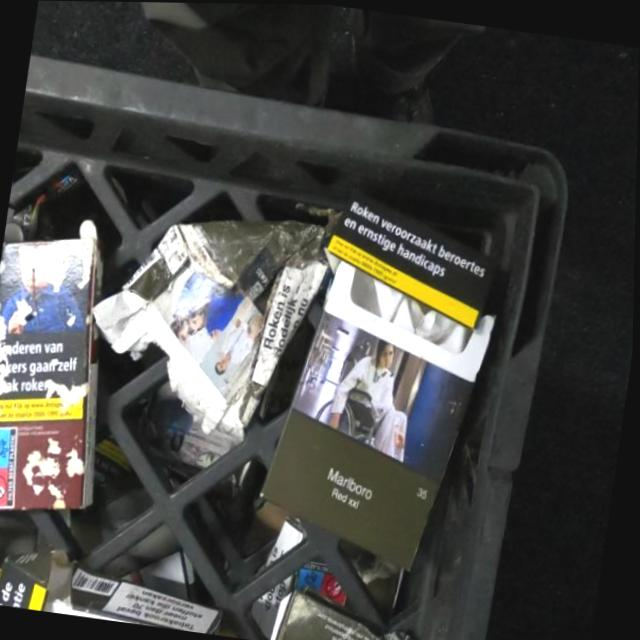Paper: (250, 180, 521, 583), (73, 170, 346, 456), (0, 206, 136, 527), (0, 535, 233, 634), (265, 578, 430, 640)
